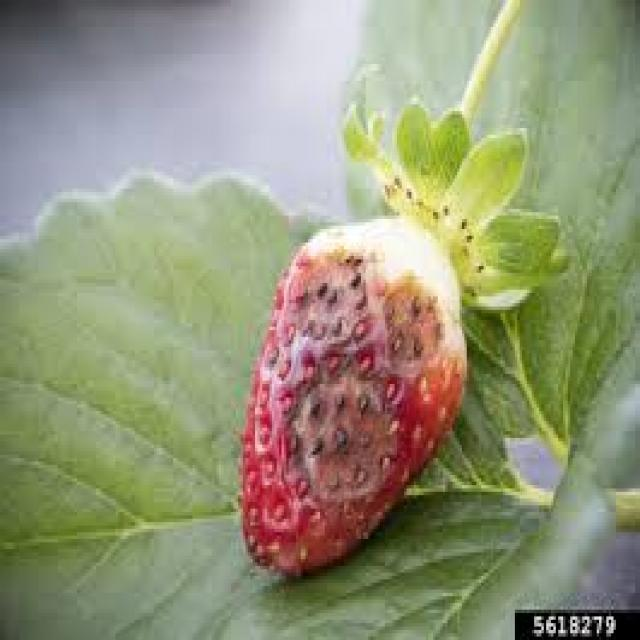Mancha negra Antracnosis: (244, 205, 466, 542)
